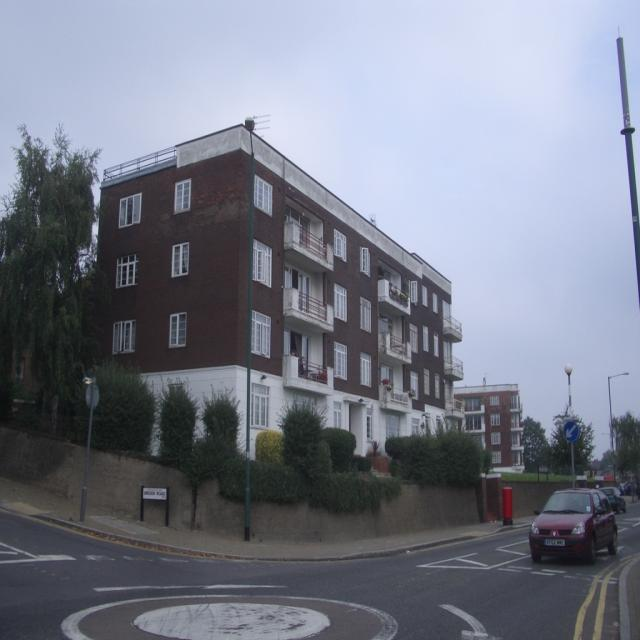car: (529, 485, 620, 562)
